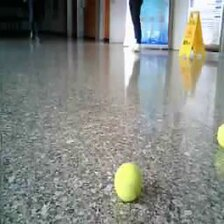tennis: (113, 162, 145, 202)
